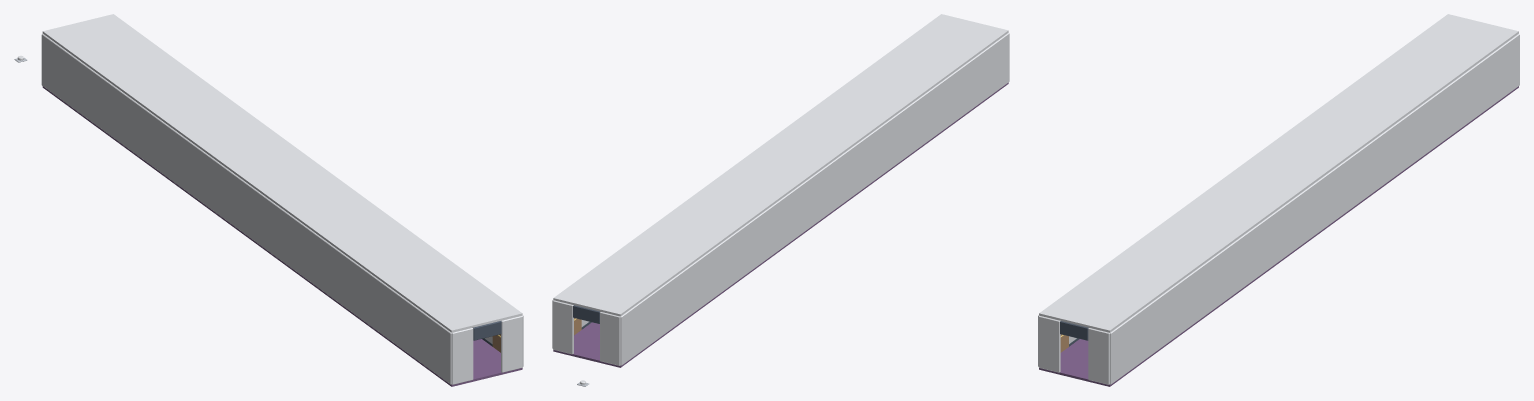
File: cabin-corridor-a.glb
3 views of the same model, side by side, from view 1: azimuth 30°, elevation 25°; view 2: azimuth 150°, elevation 25°; view 3: azimuth 330°, elevation 25° (orthographic). The views are drawn at different scales.
Parts seen in each view (by area): view 1: CM_BULKHEAD, CM_CARPET, CM_TRIM; view 2: CM_BULKHEAD, CM_CARPET, CM_TRIM; view 3: CM_BULKHEAD, CM_CARPET, CM_TRIM.
Boxes of the visible parts, x1,y1,x2,y2 form: CM_BULKHEAD: [17, 14, 523, 384]; CM_CARPET: [42, 86, 522, 386]; CM_TRIM: [473, 321, 501, 346]; CM_BULKHEAD: [552, 14, 1009, 384]; CM_CARPET: [553, 82, 1008, 367]; CM_TRIM: [573, 305, 600, 329]; CM_BULKHEAD: [1038, 14, 1519, 384]; CM_CARPET: [1039, 86, 1518, 386]; CM_TRIM: [1060, 321, 1088, 346].
Bounding box in the file's own units: 4.14 × 3.04 × 43.27.
